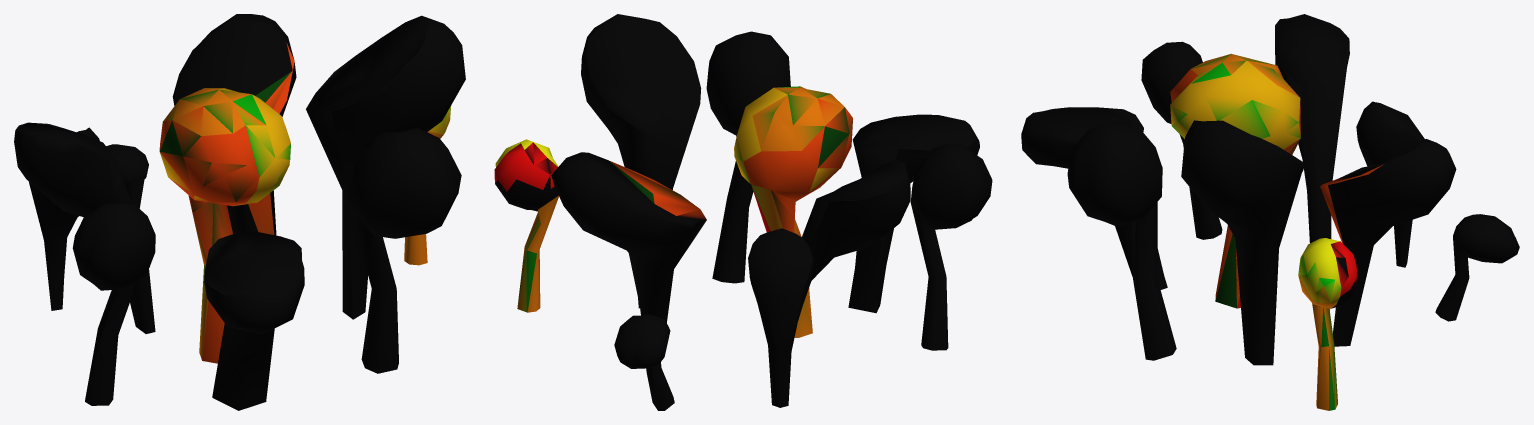
Rendered from fel_g1_mushroom.fbx.
3 views of the same model, side by side, from view 1: azimuth 30°, elevation 25°; view 2: azimuth 150°, elevation 25°; view 3: azimuth 270°, elevation 25° (orthographic). The views are drawn at different scales.
Visible parts, largest first — view 1: M_Mushroom2; view 2: M_Mushroom2; view 3: M_Mushroom2.
Part boxes in pixels (bbox=[...]): M_Mushroom2: bbox=[14, 14, 465, 410]; M_Mushroom2: bbox=[494, 14, 992, 410]; M_Mushroom2: bbox=[1021, 14, 1519, 410].
Size of the model in its own units: 44.5 by 28.15 by 46.4.
